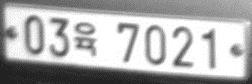0: (143, 24, 168, 64), (23, 14, 45, 56)
1: (198, 27, 221, 70)
2: (170, 25, 193, 69)
3: (47, 15, 70, 56)
7: (116, 20, 141, 64)
육: (73, 20, 98, 59)
